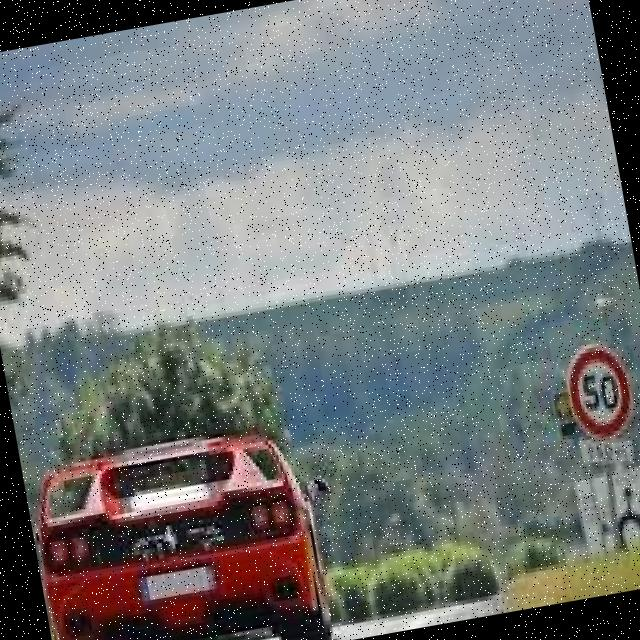speed_limit_50: (557, 332, 640, 441)
